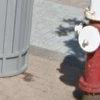Hydrant: (67, 5, 100, 96)
